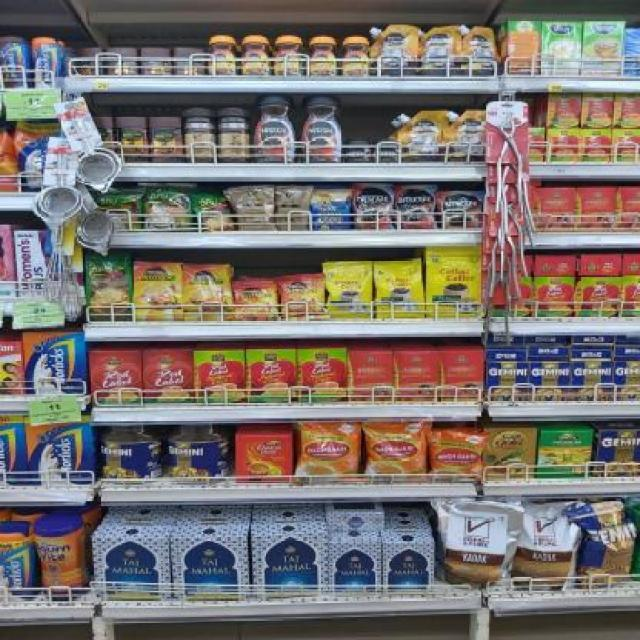Coffee: (252, 95, 296, 164), (299, 94, 341, 165), (133, 261, 181, 322), (182, 264, 230, 322), (280, 278, 326, 319), (354, 184, 394, 230), (233, 281, 279, 320), (397, 186, 435, 229), (439, 192, 481, 228), (241, 37, 271, 76), (209, 36, 238, 75), (308, 36, 336, 75), (342, 36, 370, 75), (275, 37, 301, 76), (347, 140, 371, 162), (376, 140, 399, 162)
